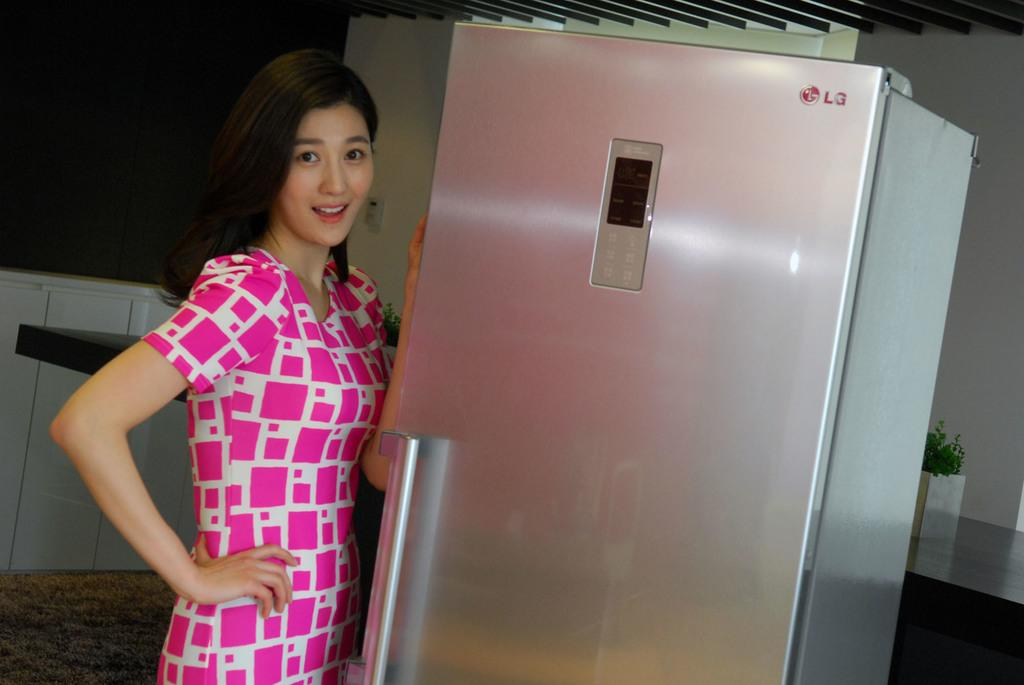handle: (362, 432, 418, 685)
